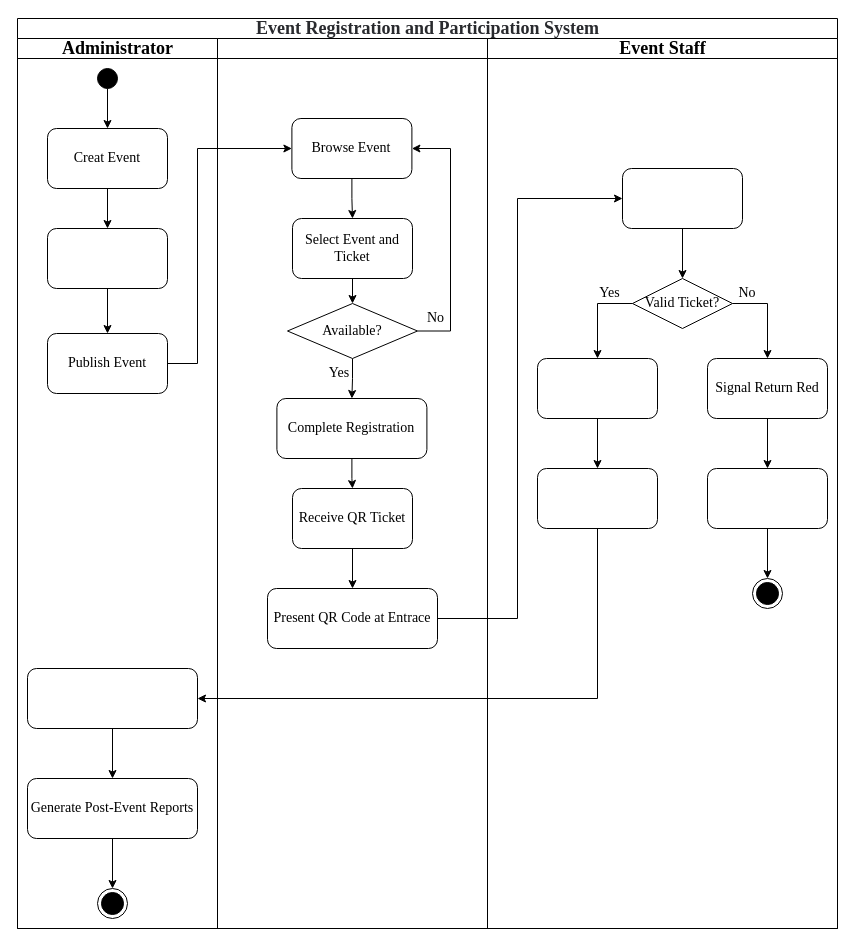
The diagram is 855 pixels wide and 946 high, and some of its shapes have lost their labels. Each missing label, with the box of its shape:
Alert Staff of Invalid Ticket.: (706, 468, 828, 528)
Attendee: (216, 38, 488, 928)
Configure Ticket Type: (46, 228, 168, 288)
Monitor Attendee Dashboard: (26, 668, 198, 728)
Scan Attendee's QR Code: (622, 168, 742, 228)
Signal Return Green: (536, 358, 658, 418)
Update Attendee Status: (536, 468, 658, 528)
